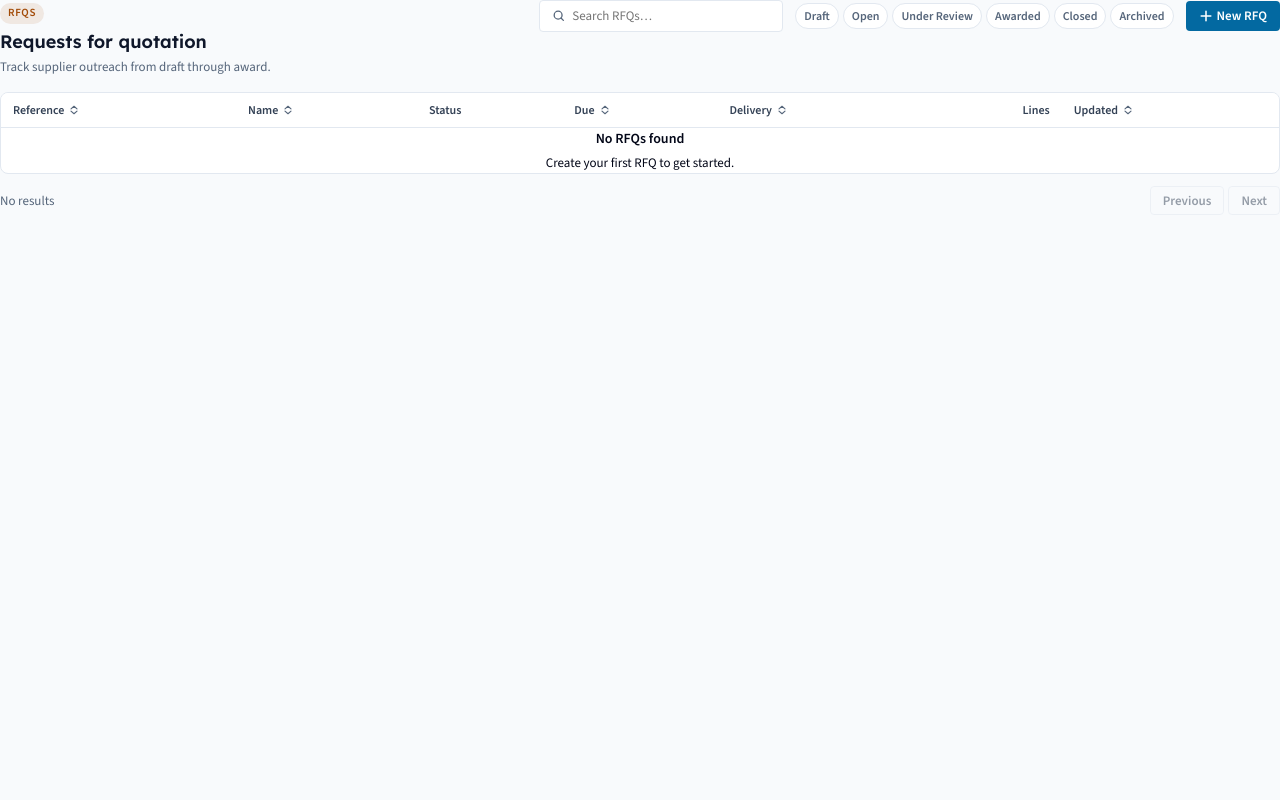
Test case: RfqsPage › requires a name and at least one line (structurally, via a non-removable first line) on the create form
The width and height of the screenshot is (1280, 800).
Click the button "New RFQ": (1233, 16) [1186,1,1279,30]
(page scrolled)
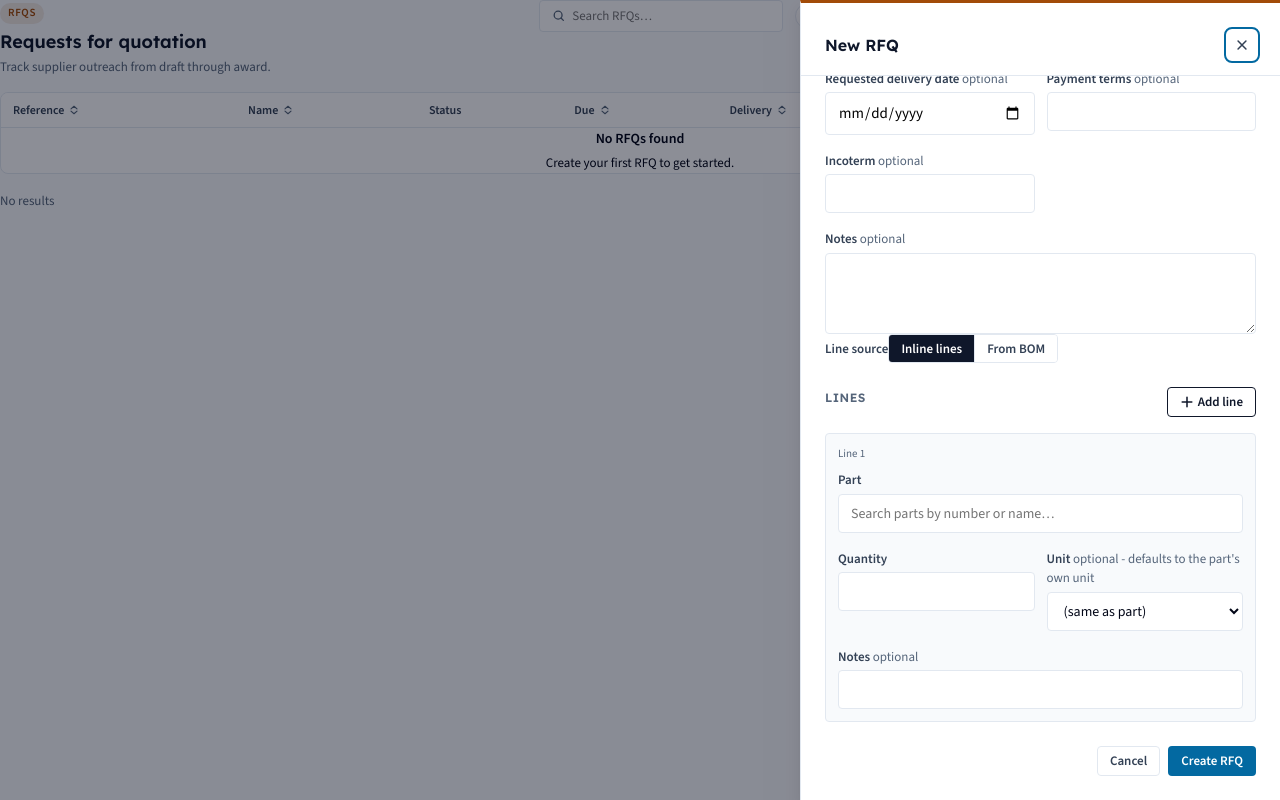
expect the field labelled "Quantity" is shown: met, box [838,572,1034,611]
Click the button "Create RFQ": (1212, 761) [1168,746,1256,776]
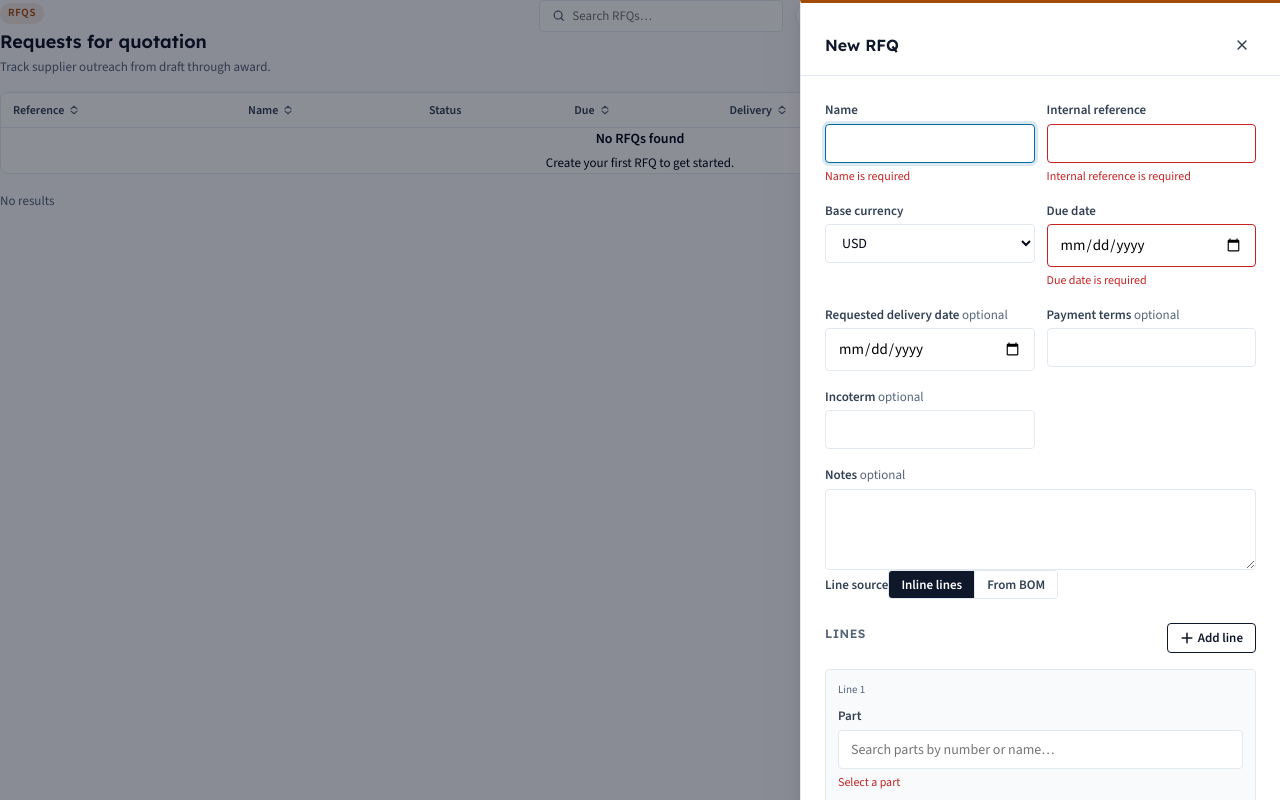
expect the text "Name is required" is shown: met, box [825,168,910,184]
expect the text "Select a part" is shown: met, box [838,774,900,790]
